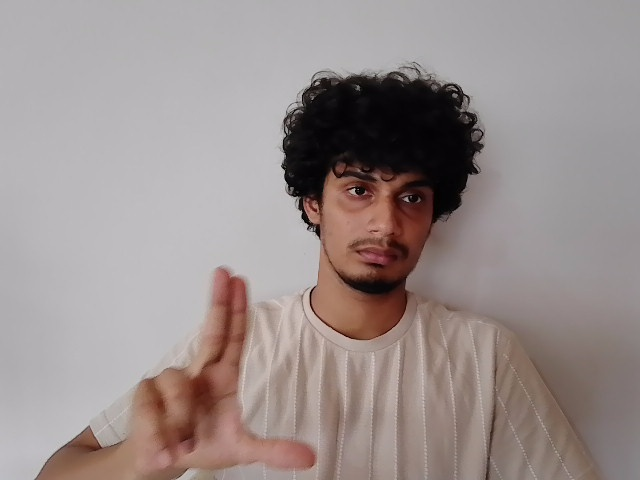no: (122, 266, 326, 472)
